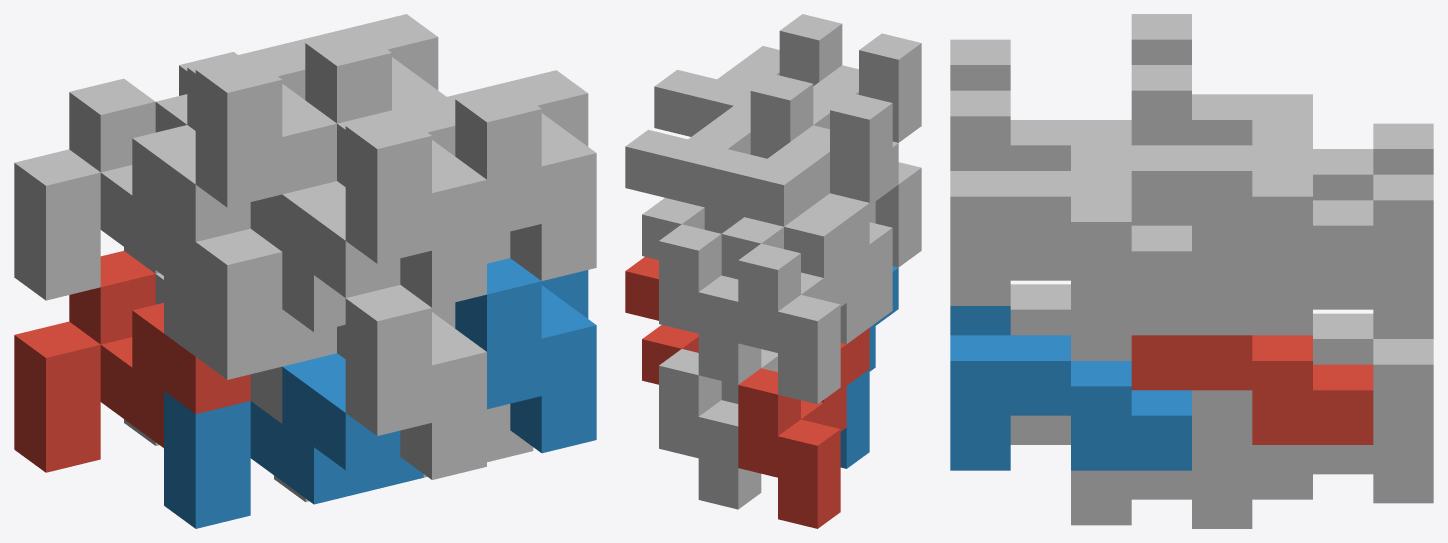
Rendered from tiling.obj.
3 renders of one model, left to right at view 1: azimuth 30°, elevation 25°; view 2: azimuth 150°, elevation 25°; view 3: azimuth 270°, elevation 25°, orthographic. The views are drawn at different scales.
Visible parts, largest first — view 1: copy_1_domain_3, copy_1_domain_1, copy_1_domain_2, copy_2_domain_4, copy_2_domain_8, copy_2_domain_2, copy_2_domain_3, copy_2_domain_6, copy_2_domain_1, copy_1_domain_4, copy_2_domain_7, copy_1_domain_6 (+1 smaller); view 2: copy_1_domain_3, copy_2_domain_3, copy_1_domain_1, copy_2_domain_7, copy_1_domain_7, copy_2_domain_8, copy_1_domain_5, copy_2_domain_4, copy_2_domain_5, copy_2_domain_2, copy_2_domain_1, copy_1_domain_2 (+1 smaller); view 3: copy_2_domain_8, copy_2_domain_7, copy_2_domain_6, copy_2_domain_5, copy_1_domain_6, copy_1_domain_7, copy_1_domain_5, copy_1_domain_8, copy_2_domain_3, copy_2_domain_4, copy_1_domain_3, copy_2_domain_1 (+1 smaller).
Boxes of the visible parts, x1,y1,x2,y2 form: copy_1_domain_3: [14, 78, 250, 300]; copy_1_domain_1: [14, 251, 250, 472]; copy_1_domain_2: [164, 353, 423, 528]; copy_2_domain_4: [337, 97, 486, 307]; copy_2_domain_8: [447, 70, 596, 280]; copy_2_domain_2: [337, 285, 486, 479]; copy_2_domain_3: [155, 41, 336, 251]; copy_2_domain_6: [455, 258, 596, 453]; copy_2_domain_1: [155, 228, 336, 423]; copy_1_domain_4: [164, 181, 400, 356]; copy_2_domain_7: [297, 14, 446, 123]; copy_1_domain_6: [274, 404, 533, 501]; copy_1_domain_3: [738, 193, 869, 404]; copy_2_domain_3: [704, 93, 892, 279]; copy_1_domain_1: [738, 328, 869, 528]; copy_2_domain_7: [625, 74, 813, 259]; copy_1_domain_7: [659, 207, 761, 384]; copy_2_domain_8: [654, 14, 842, 136]; copy_1_domain_5: [659, 349, 761, 509]; copy_2_domain_4: [734, 33, 921, 142]; copy_2_domain_5: [625, 257, 698, 384]; copy_2_domain_2: [875, 162, 921, 267]; copy_2_domain_1: [721, 222, 892, 403]; copy_1_domain_2: [840, 266, 898, 468]; copy_2_domain_8: [950, 90, 1191, 305]; copy_2_domain_7: [1131, 65, 1373, 280]; copy_2_domain_6: [950, 306, 1191, 470]; copy_2_domain_5: [1131, 335, 1373, 444]; copy_1_domain_6: [1010, 390, 1252, 528]; copy_1_domain_7: [1252, 174, 1433, 338]; copy_1_domain_5: [1252, 339, 1433, 503]; copy_1_domain_8: [1010, 225, 1252, 360]; copy_2_domain_3: [1131, 14, 1373, 200]; copy_2_domain_4: [950, 39, 1131, 170]; copy_1_domain_3: [1373, 123, 1433, 174]; copy_2_domain_1: [1313, 313, 1373, 364].
Bounding box in the file's own units: 7 × 8 × 8.
